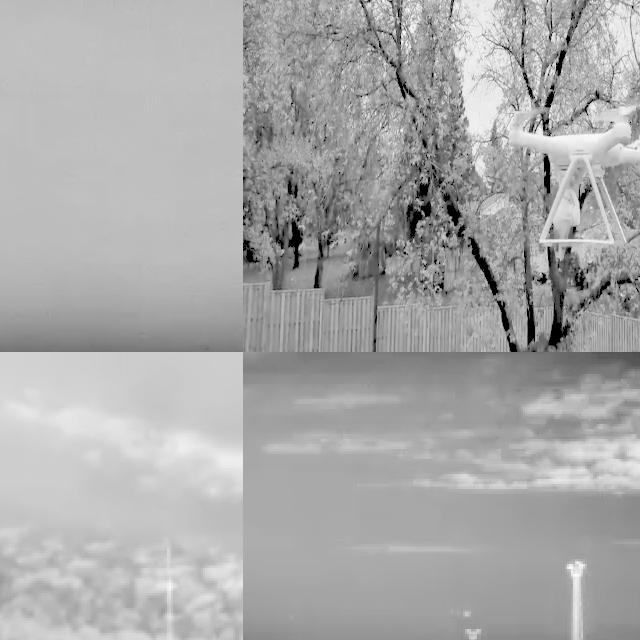0: (449, 601, 477, 629)
drone: (509, 104, 640, 262)
